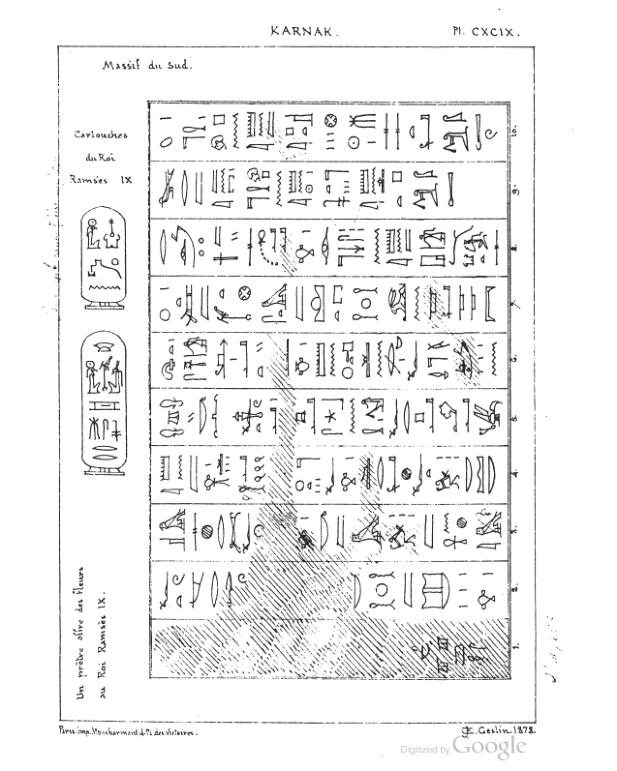circle: (74, 325, 132, 481), (73, 198, 132, 313)
